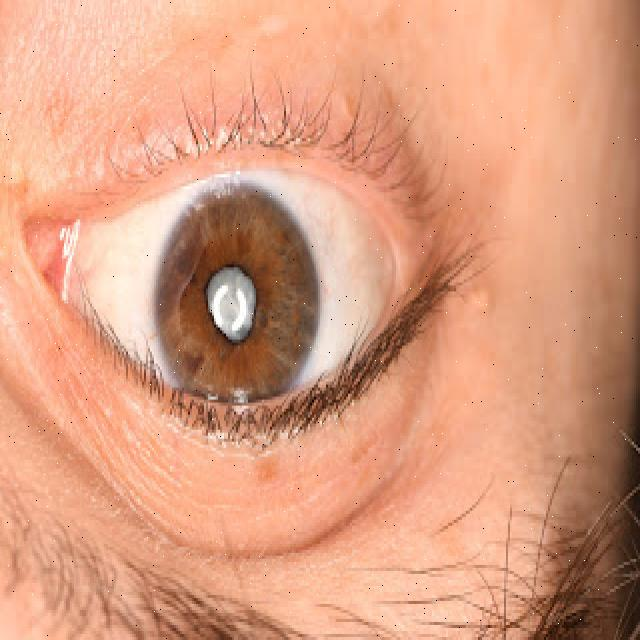Cataract: (155, 185, 320, 428)
